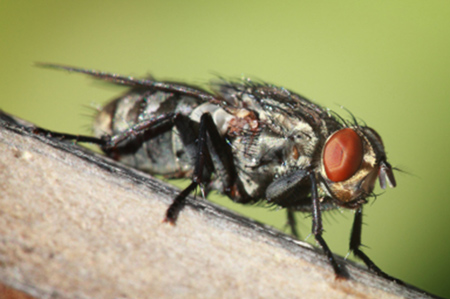fly: (1, 58, 412, 289)
